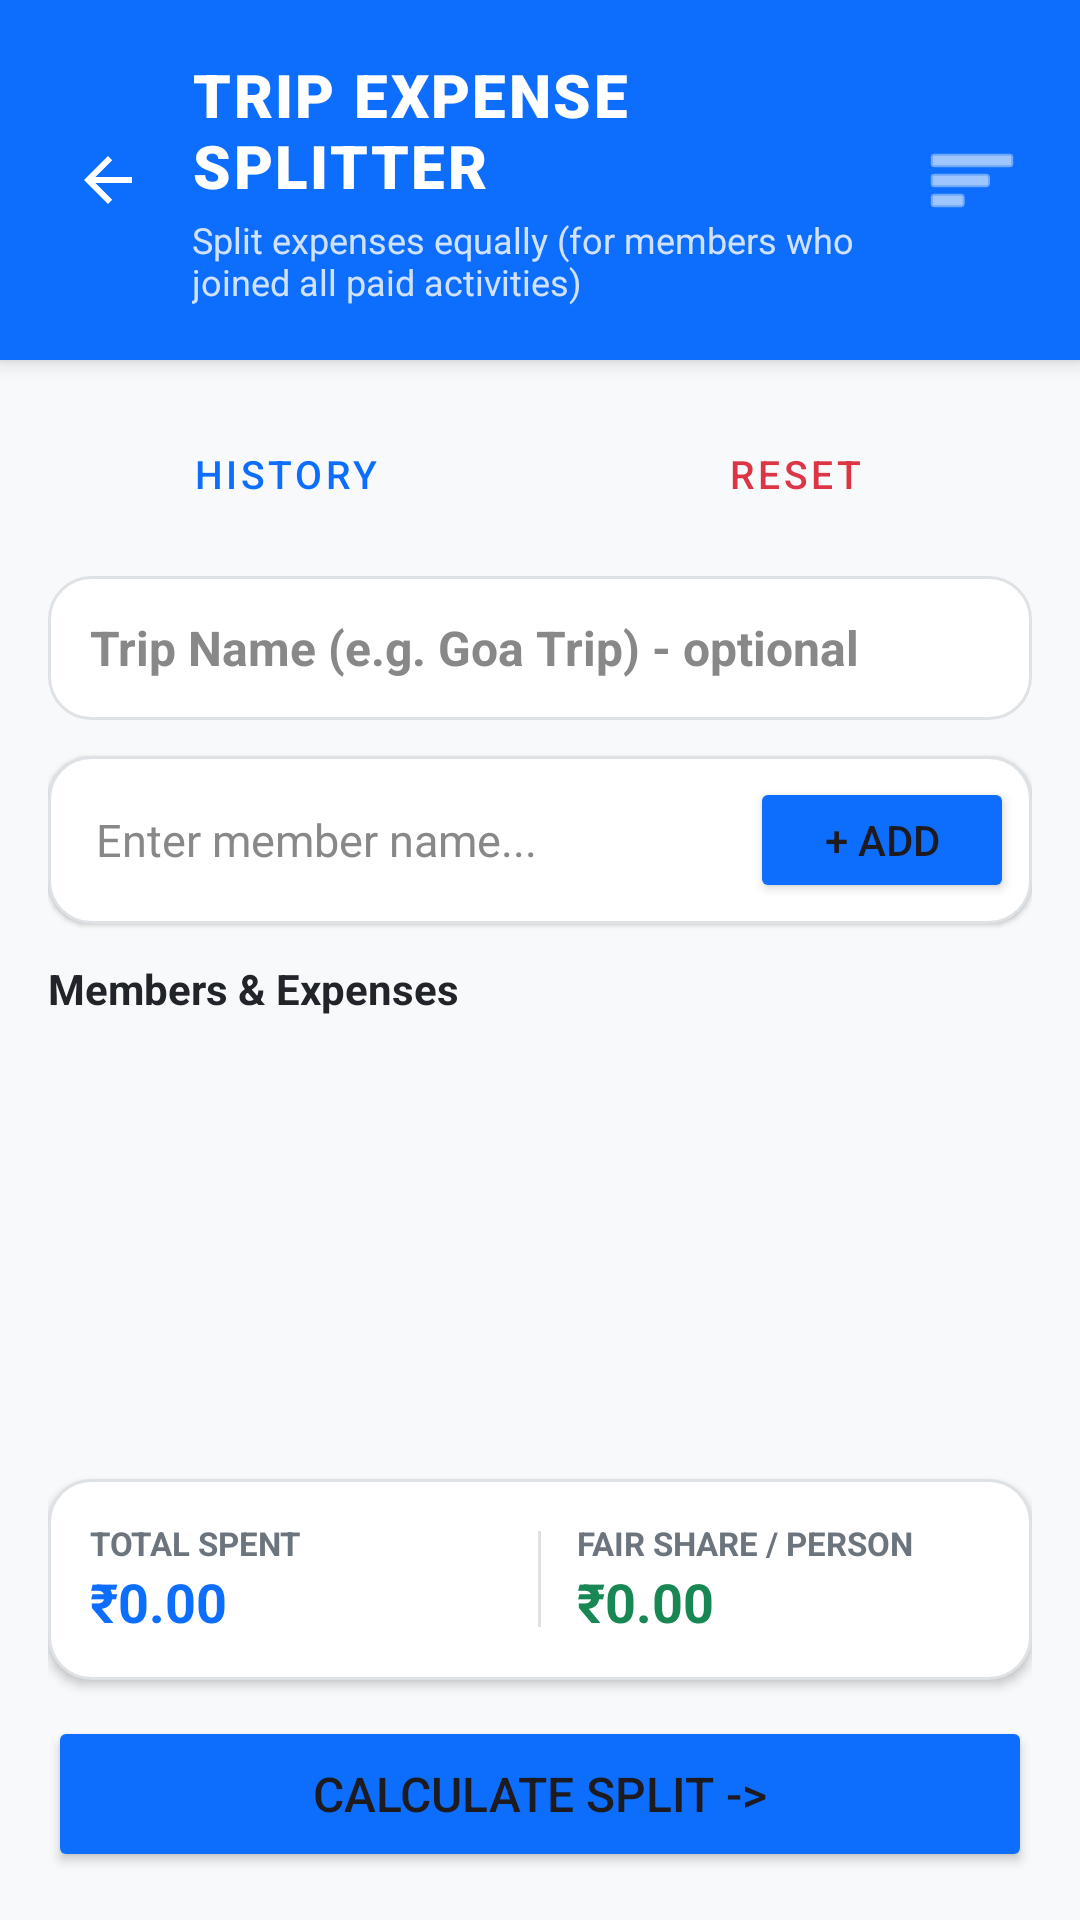

Screen size 1080w x 1920h. Icon name, then its center in pixels as point (x, y):
Back: point (108, 180)
Menu: point (972, 180)
